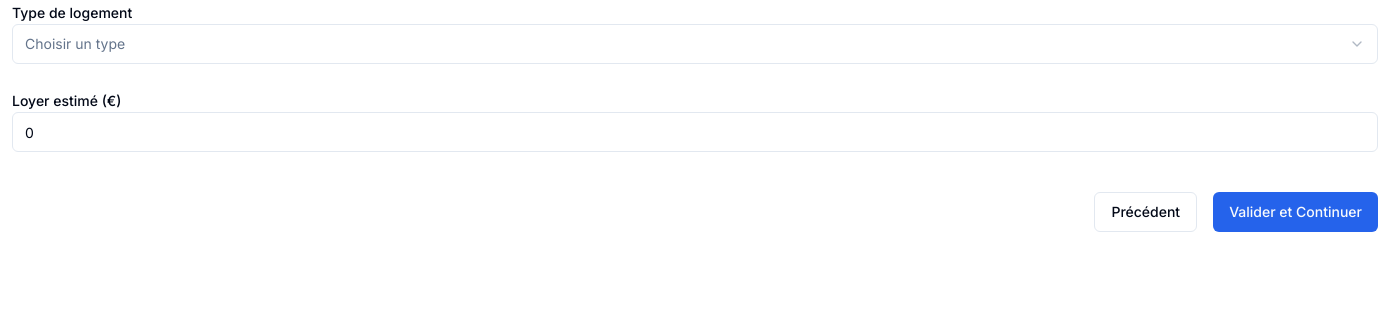
Test: HousingStepForm › shows price range feedback when type is selected
Note: Select type
What coordinates should you click on to do the following:
click the dropdown
I would click on:
 (75, 44)
Its box is [12,24,1378,64].
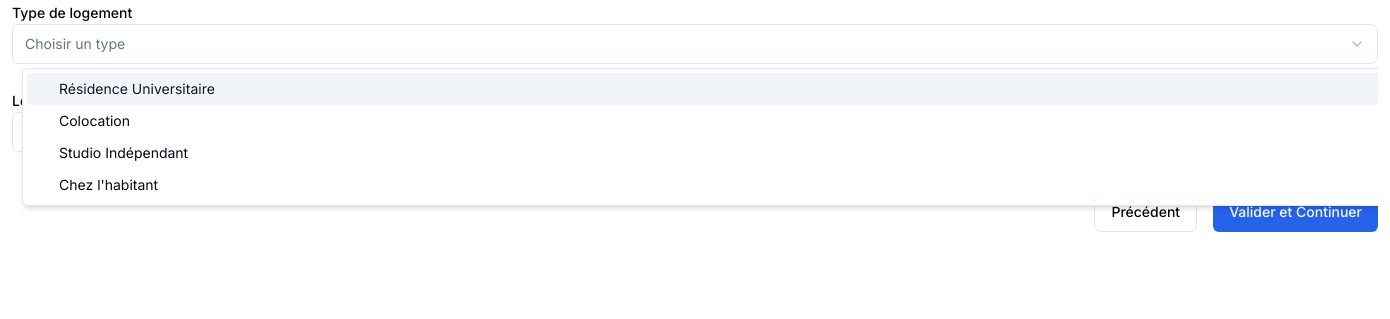
What coordinates should you click on to do the following:
click the option "Colocation"
I would click on:
 (94, 120)
Its box is [59,112,130,129].
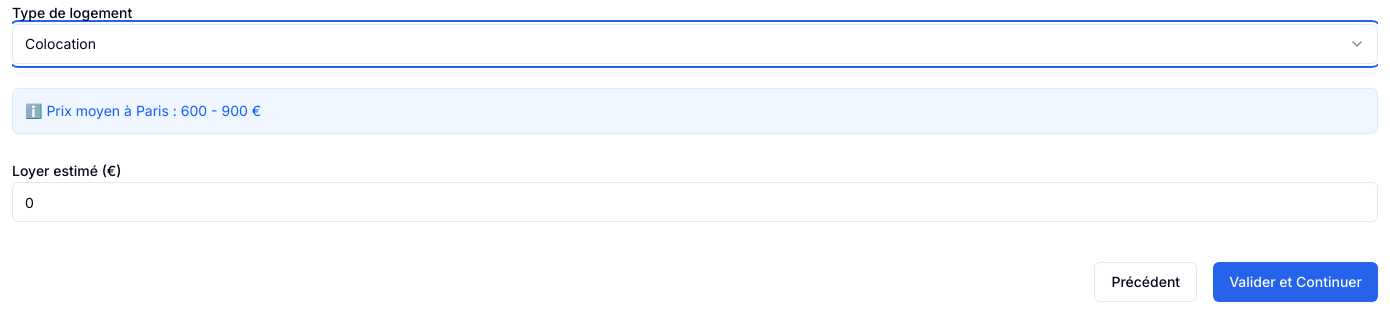
Result: the text "ℹ️ Prix moyen à Paris : 600 - 900 €" is shown at [12,88,1378,134]
